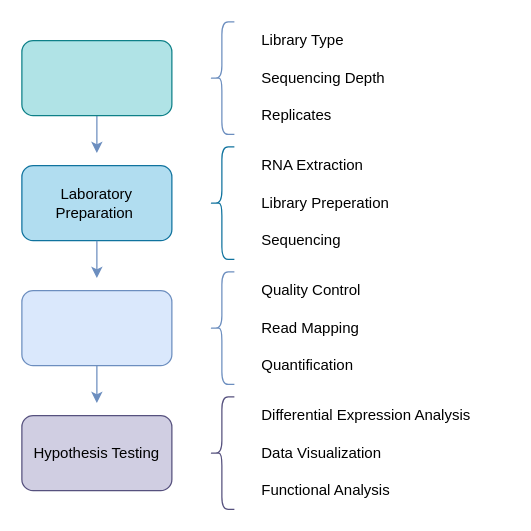
Some shapes in this 531 by 531 pixel diagram are drawn without their labels. Each missing label, with the box of its shape:
Data Pre-Processing: (21, 289, 172, 366)
Experimental Design: (21, 39, 172, 116)
